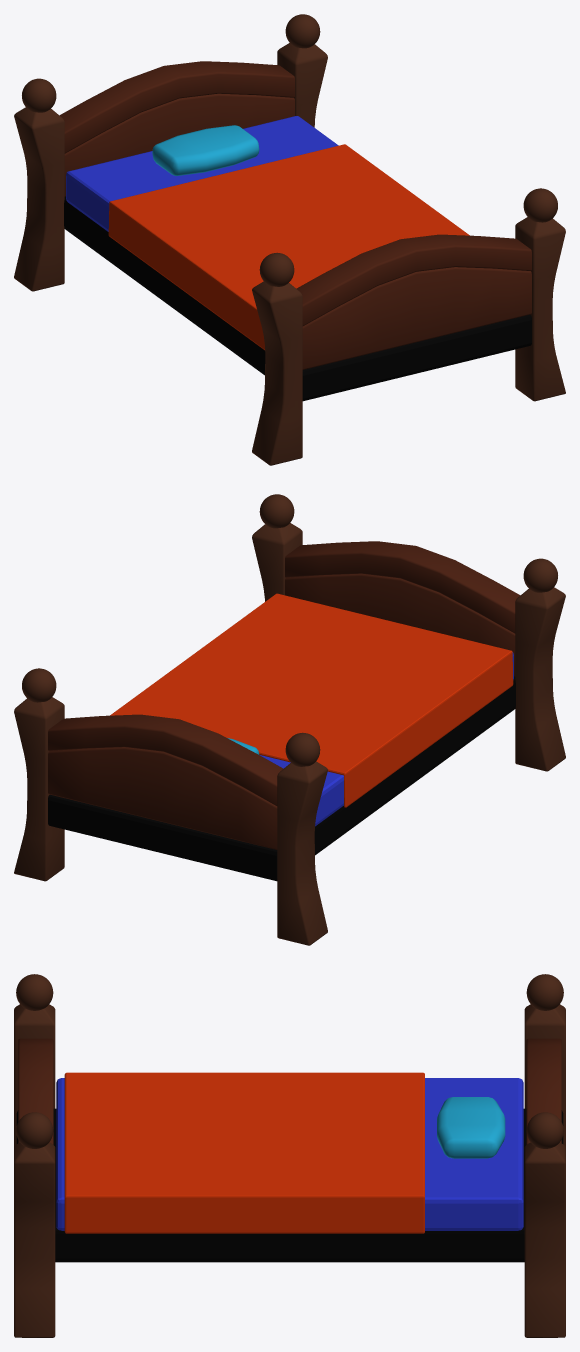
Rendered from bedroom.obj.
The picture shows the model from 3 angles, top to bottom: view 1: azimuth 30°, elevation 25°; view 2: azimuth 150°, elevation 25°; view 3: azimuth 270°, elevation 25°; orthographic projection. The views are drawn at different scales.
Visible parts, largest first — view 1: Plane.004, Plane.007, Plane.005, Plane.003, Plane.006, Plane.008; view 2: Plane.007, Plane.004, Plane.005, Plane.003, Plane.006; view 3: Plane.007, Plane.005, Plane.003, Plane.006, Plane.004, Plane.008.
Boxes of the visible parts, x1,y1,x2,y2 form: Plane.004: (59,61,531,369); Plane.007: (108,144,469,350); Plane.005: (14,14,565,465); Plane.003: (64,196,531,401); Plane.006: (66,116,338,231); Plane.008: (152,125,259,176); Plane.007: (110,593,513,807); Plane.004: (48,541,520,849); Plane.005: (14,494,565,945); Plane.003: (48,676,515,881); Plane.006: (259,652,513,826); Plane.007: (64,1072,424,1233); Plane.005: (14,974,565,1337); Plane.003: (16,1108,563,1262); Plane.006: (56,1078,523,1230); Plane.004: (18,1038,561,1144); Plane.008: (437,1097,505,1158).
Size of the model in its own units: 0.791 by 0.5133 by 1.19.
